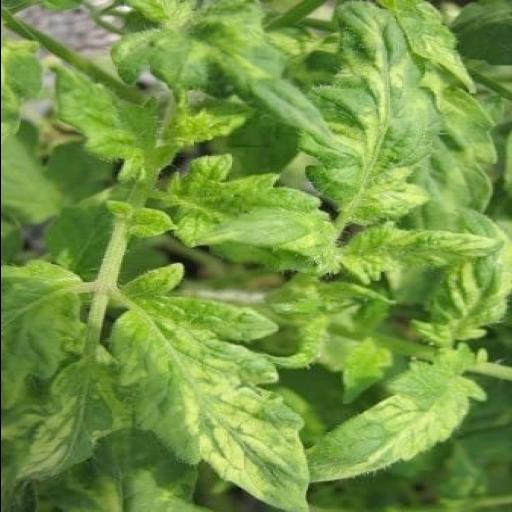Mosaic Virus: (97, 263, 320, 512), (302, 0, 442, 226), (308, 344, 492, 486), (173, 151, 341, 256), (10, 347, 119, 486), (407, 207, 512, 346), (340, 220, 507, 288)
